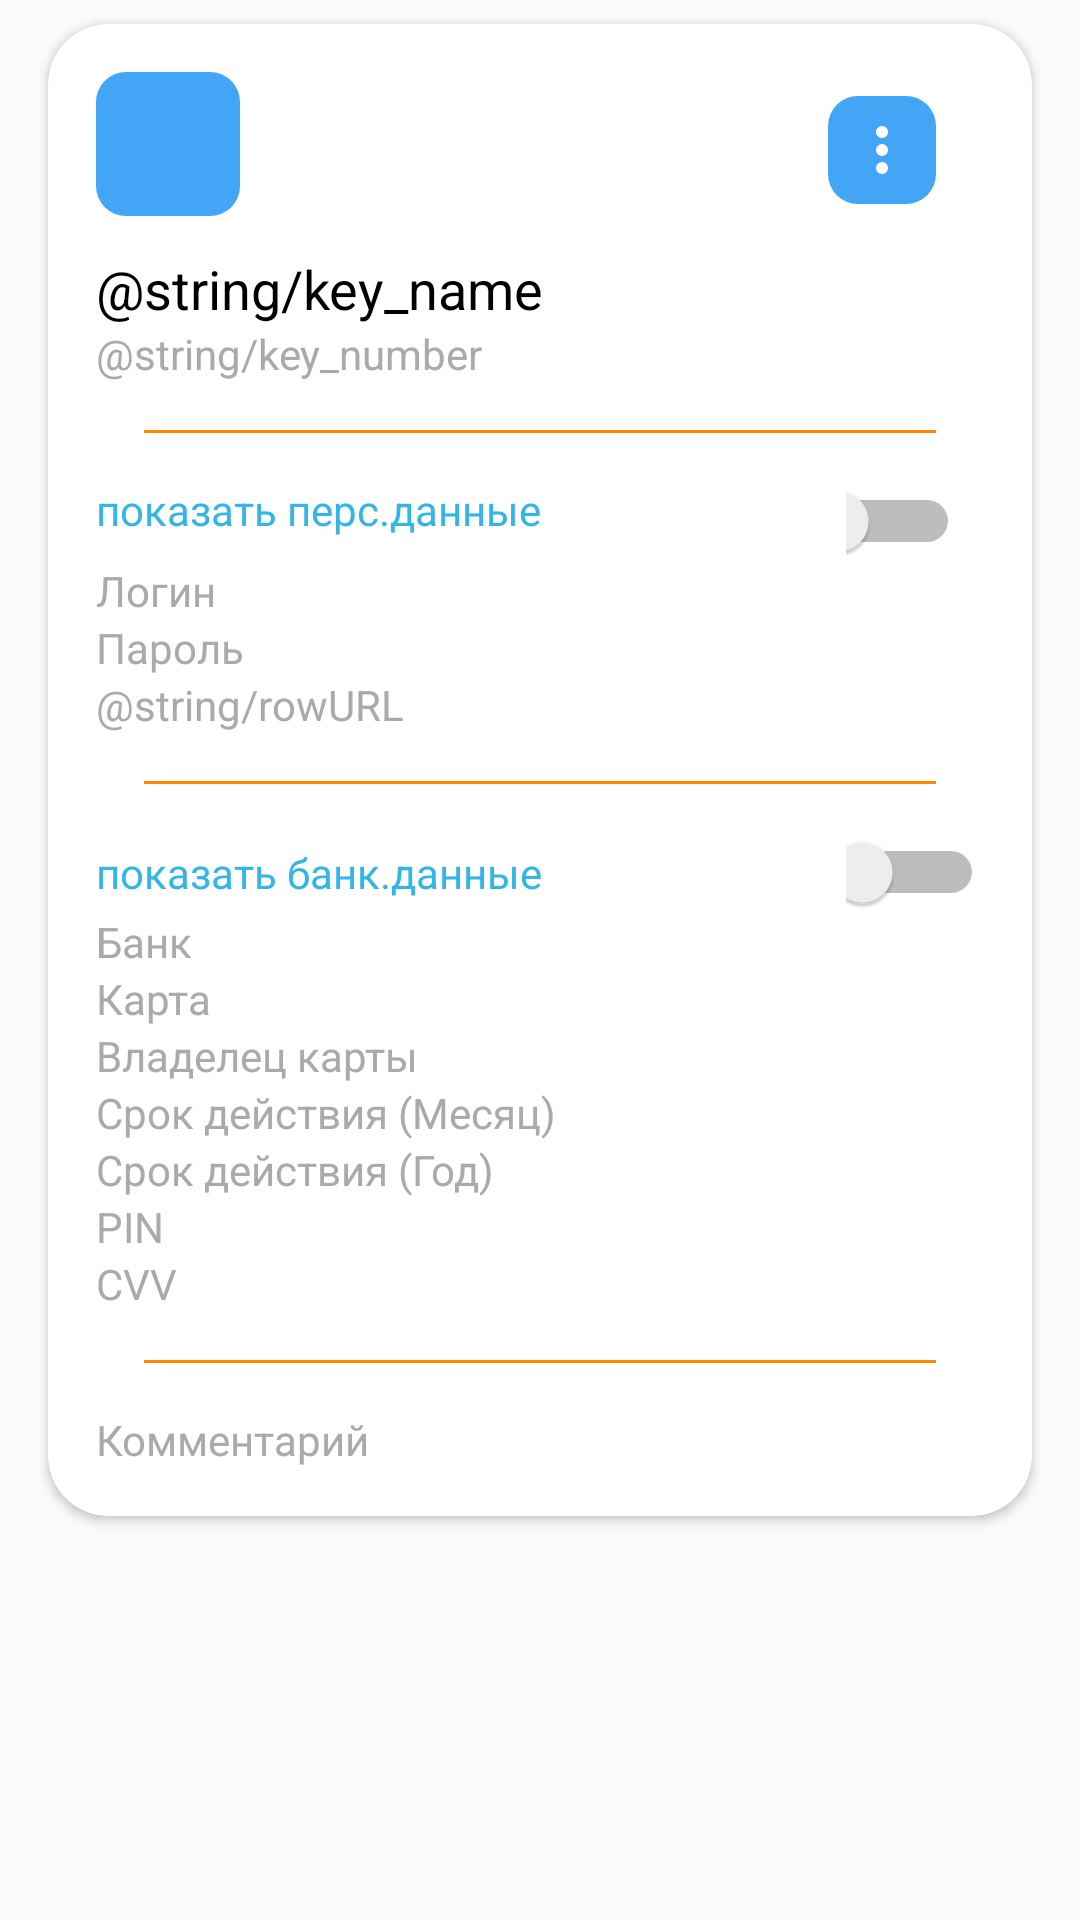

Icon bounding boxes for this 1080px×1920px phone screenshot, format [x1, y1, x2, y2]:
more vert: [828, 96, 936, 204]
